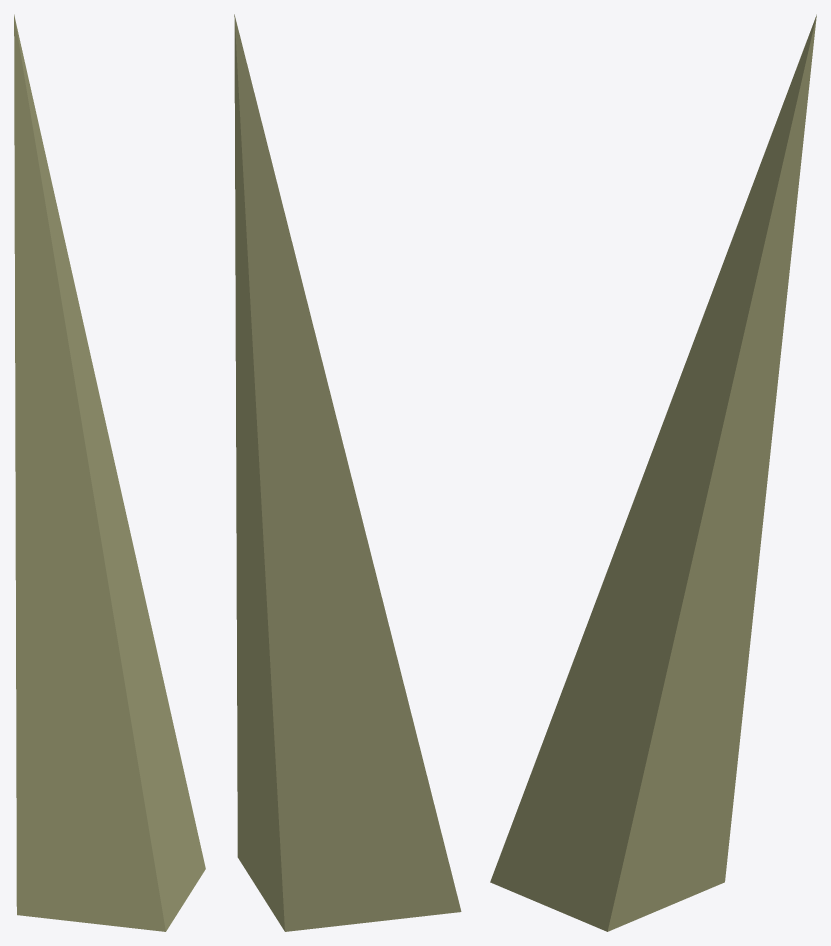
The picture shows the model from 3 angles, left to right: view 1: azimuth 30°, elevation 25°; view 2: azimuth 150°, elevation 25°; view 3: azimuth 270°, elevation 25°; orthographic projection. The views are drawn at different scales.
Parts seen in each view (by area): view 1: Pyramid; view 2: Pyramid; view 3: Pyramid.
Part boxes in pixels (x1,y1,x2,y2): Pyramid: (14, 14, 205, 931); Pyramid: (234, 14, 461, 931); Pyramid: (490, 14, 816, 931).
Bounding box in the file's own units: 1.41 × 5.77 × 1.97.
